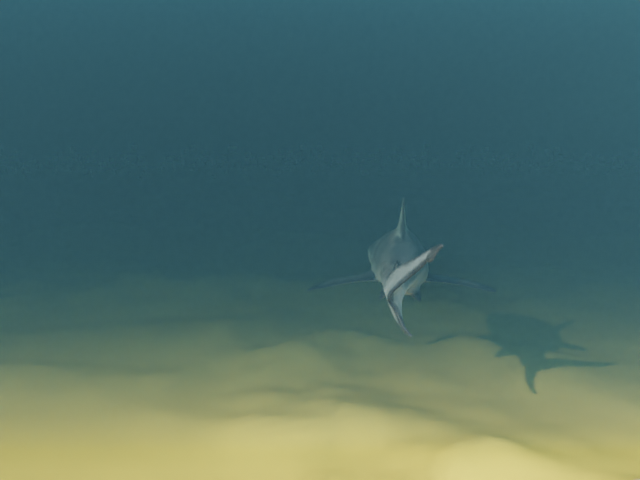Carribean Shark.001: (306, 197, 497, 337)
